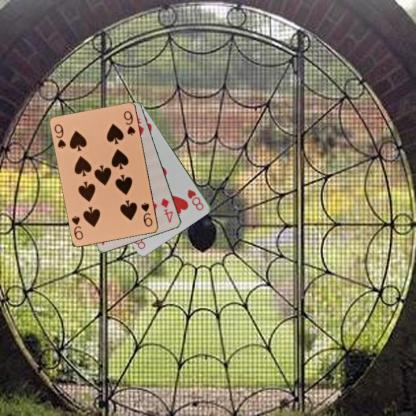4d: (158, 195, 174, 224)
8h: (185, 187, 205, 212)
9s: (138, 199, 154, 228), (52, 121, 67, 150)
